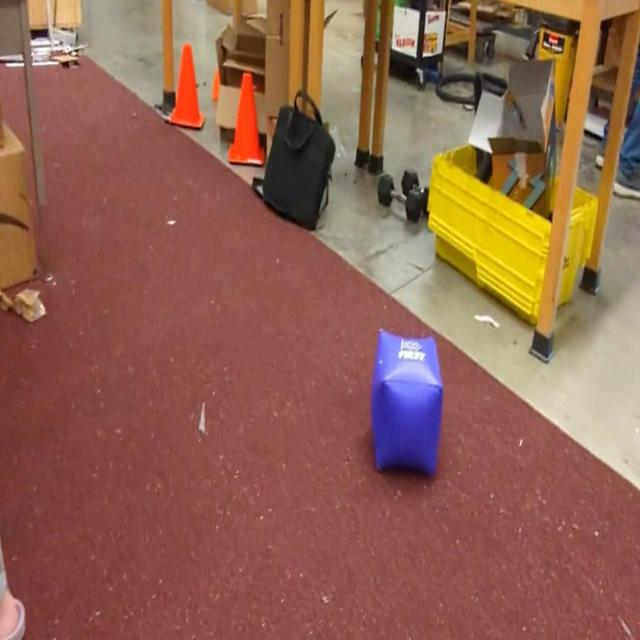frc_cube: (370, 328, 444, 476)
